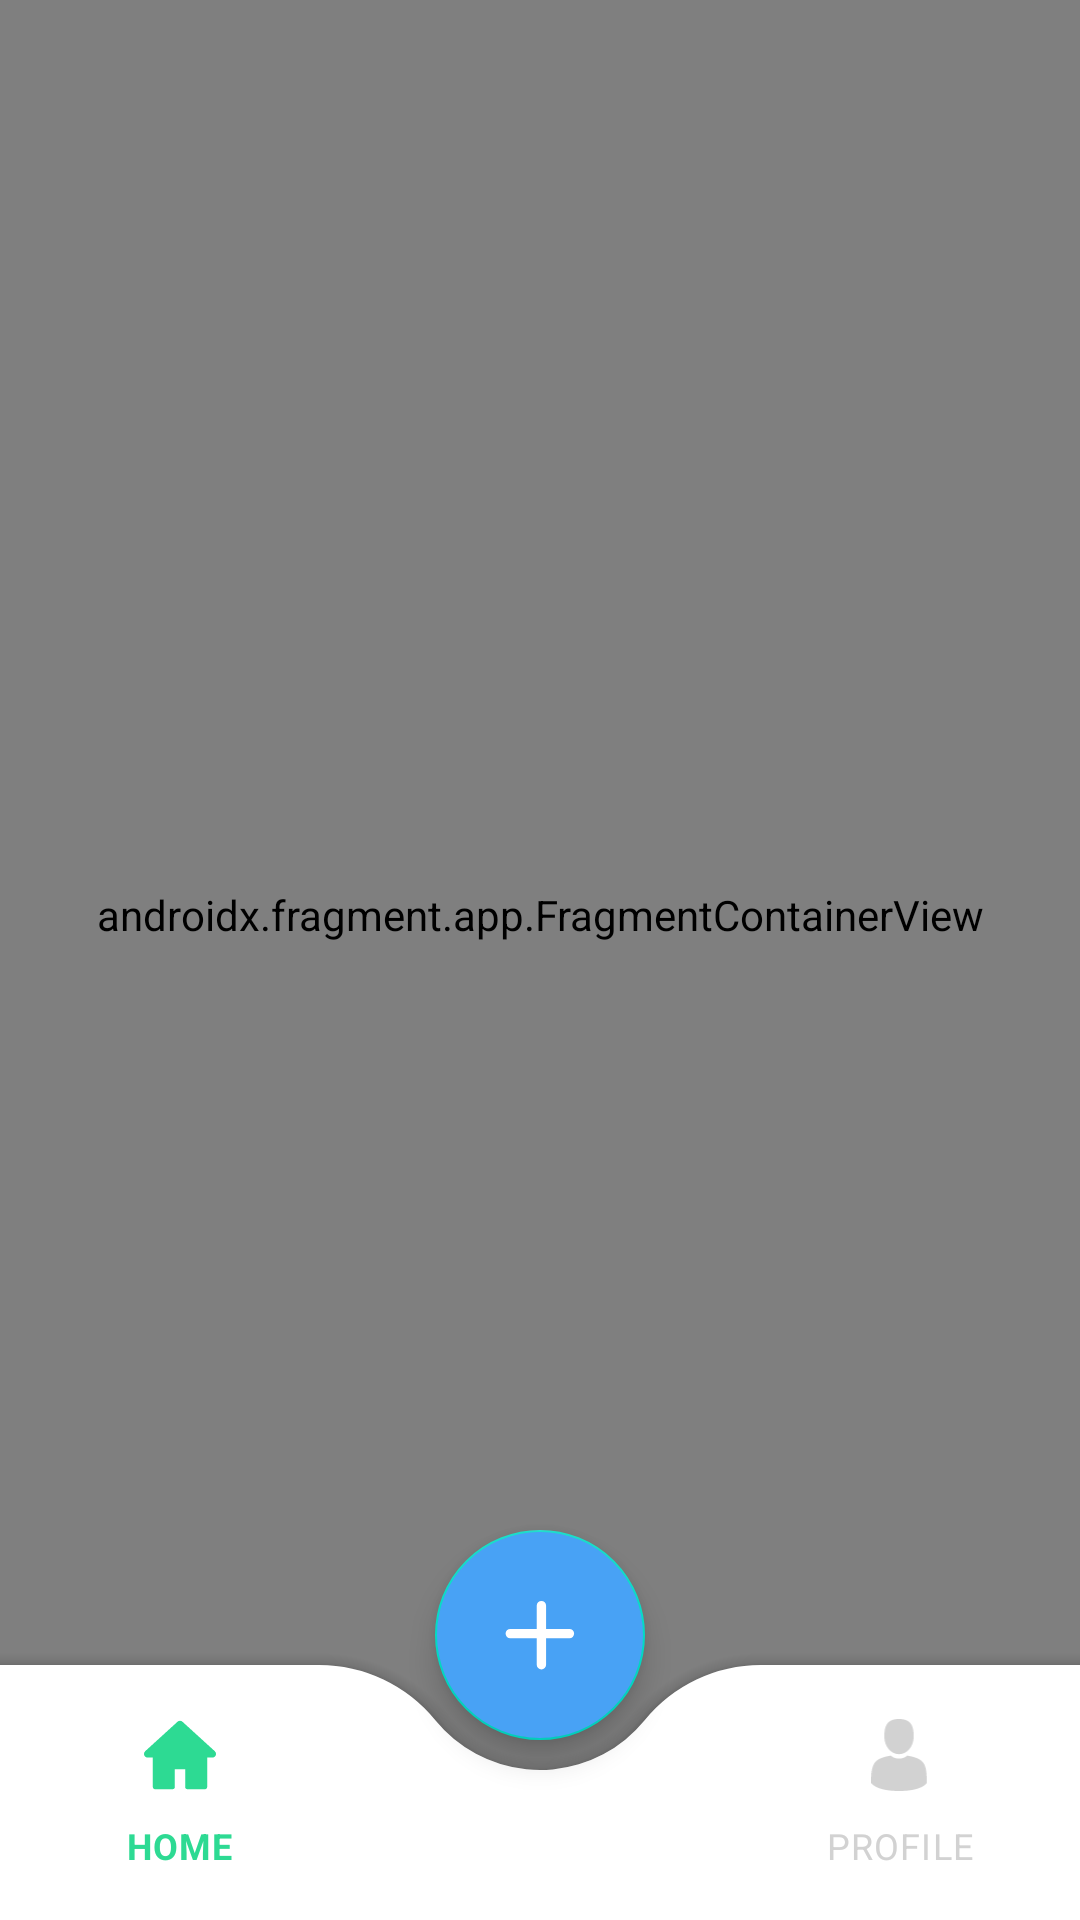

Where to tap for icons on this 1080px×1920px app screen, as point (x, y):
add: point (540, 1665)
